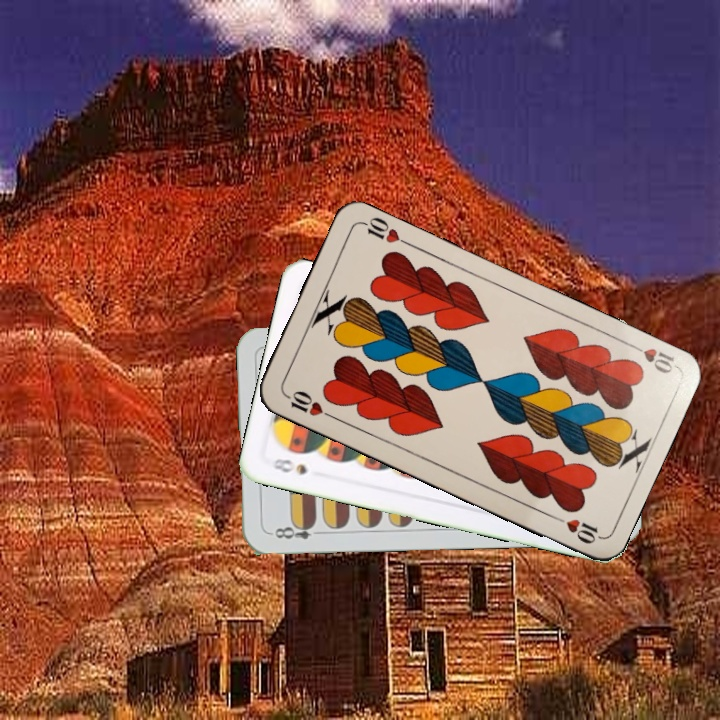E8: (270, 518, 325, 542)
H10: (623, 338, 678, 376), (281, 386, 336, 421)
S8: (268, 454, 310, 477)
